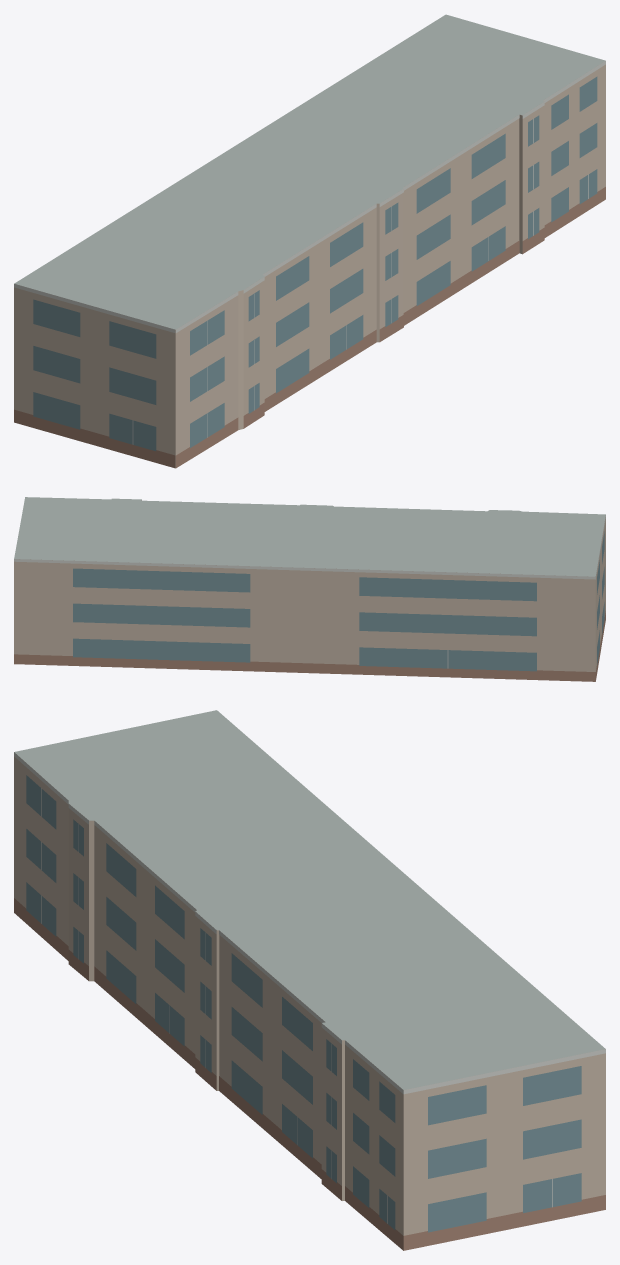
File: survey-upis-32926187.glb
3 views of the same model, one above another, from view 1: azimuth 30°, elevation 25°; view 2: azimuth 150°, elevation 25°; view 3: azimuth 270°, elevation 25° (orthographic). The views are drawn at different scales.
Visible parts, largest first — view 1: survey-upis-32926187.tmp; view 2: survey-upis-32926187.tmp; view 3: survey-upis-32926187.tmp.
Part boxes in pixels (<box>): survey-upis-32926187.tmp: <box>14,14,605,468</box>; survey-upis-32926187.tmp: <box>14,497,605,681</box>; survey-upis-32926187.tmp: <box>14,710,605,1250</box>.
Size of the model in its own units: 46.4 by 9.15 by 30.54.
